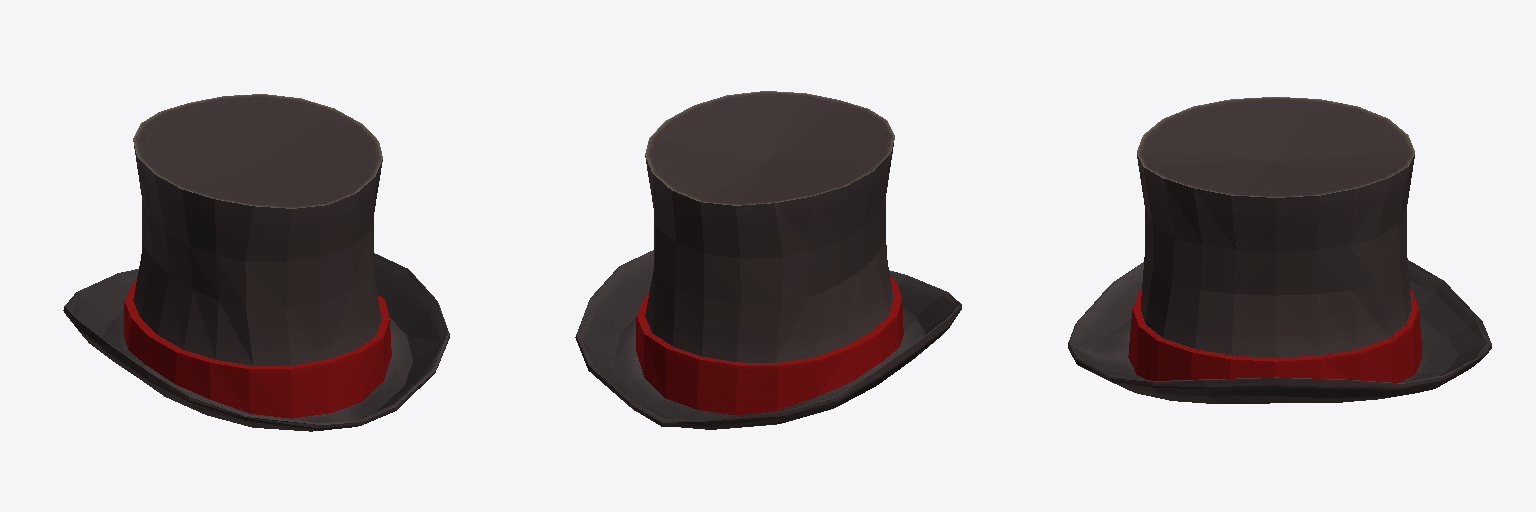
The picture shows the model from 3 angles: view 1: azimuth 30°, elevation 25°; view 2: azimuth 150°, elevation 25°; view 3: azimuth 270°, elevation 25°; orthographic projection.
Visible parts, largest first — view 1: TopHat3:pCylinder3; view 2: TopHat3:pCylinder3; view 3: TopHat3:pCylinder3.
Part boxes in pixels (x1,y1,x2,y2): TopHat3:pCylinder3: (63,94,449,431); TopHat3:pCylinder3: (575,91,961,429); TopHat3:pCylinder3: (1068,97,1491,403).
Bounding box in the file's own units: 1.02 × 0.6964 × 1.23.
Materials: 1 (1 with a texture image).